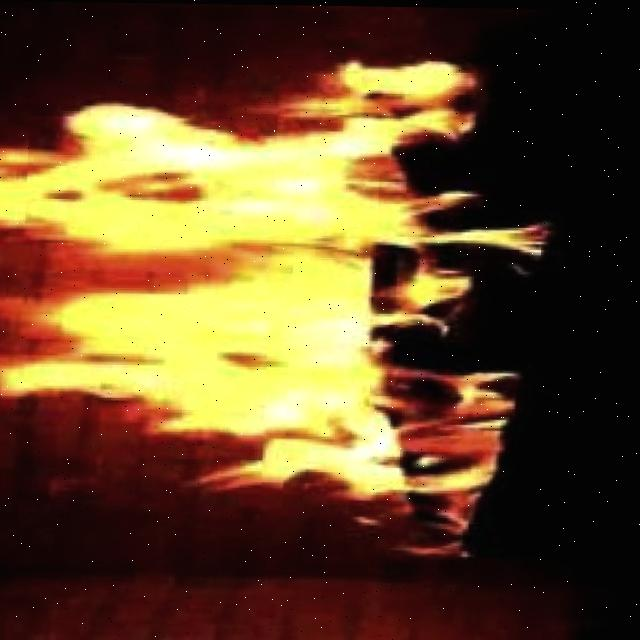Smoke: (0, 34, 575, 584)
